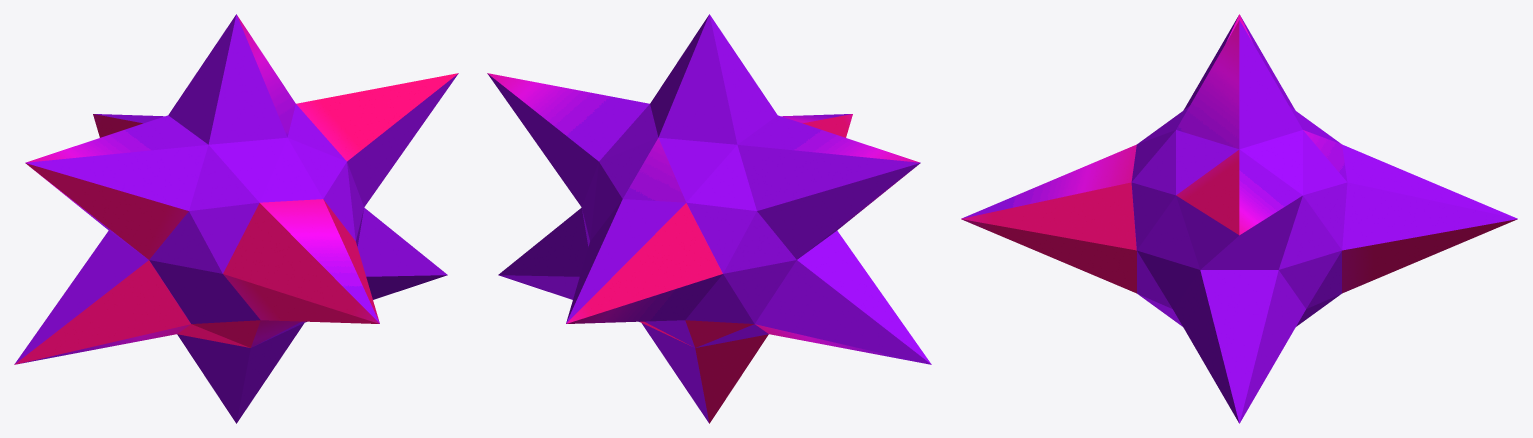
The model's file is Enemy2.obj.
3 renders of one model, left to right at view 1: azimuth 30°, elevation 25°; view 2: azimuth 150°, elevation 25°; view 3: azimuth 270°, elevation 25°, orthographic. The views are drawn at different scales.
Parts seen in each view (by area): view 1: ICO球; view 2: ICO球; view 3: ICO球.
Part boxes in pixels (bbox=[...]): ICO球: bbox=[14, 14, 458, 423]; ICO球: bbox=[487, 14, 931, 423]; ICO球: bbox=[961, 14, 1517, 423].
Bounding box in the file's own units: 3.93 × 3.46 × 4.4.
Materials: 1 (1 with a texture image).
